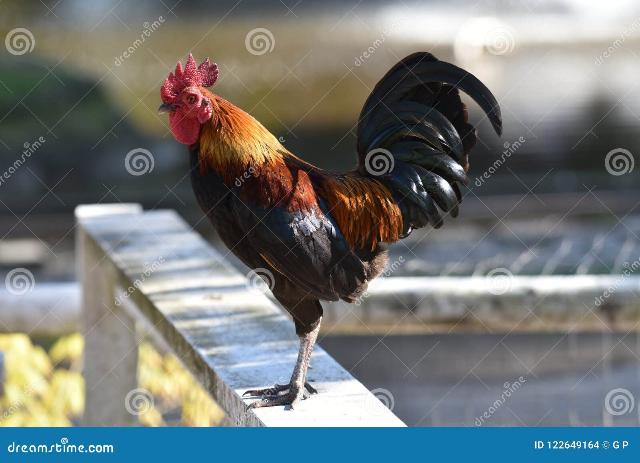Chicken: (155, 49, 502, 411)
